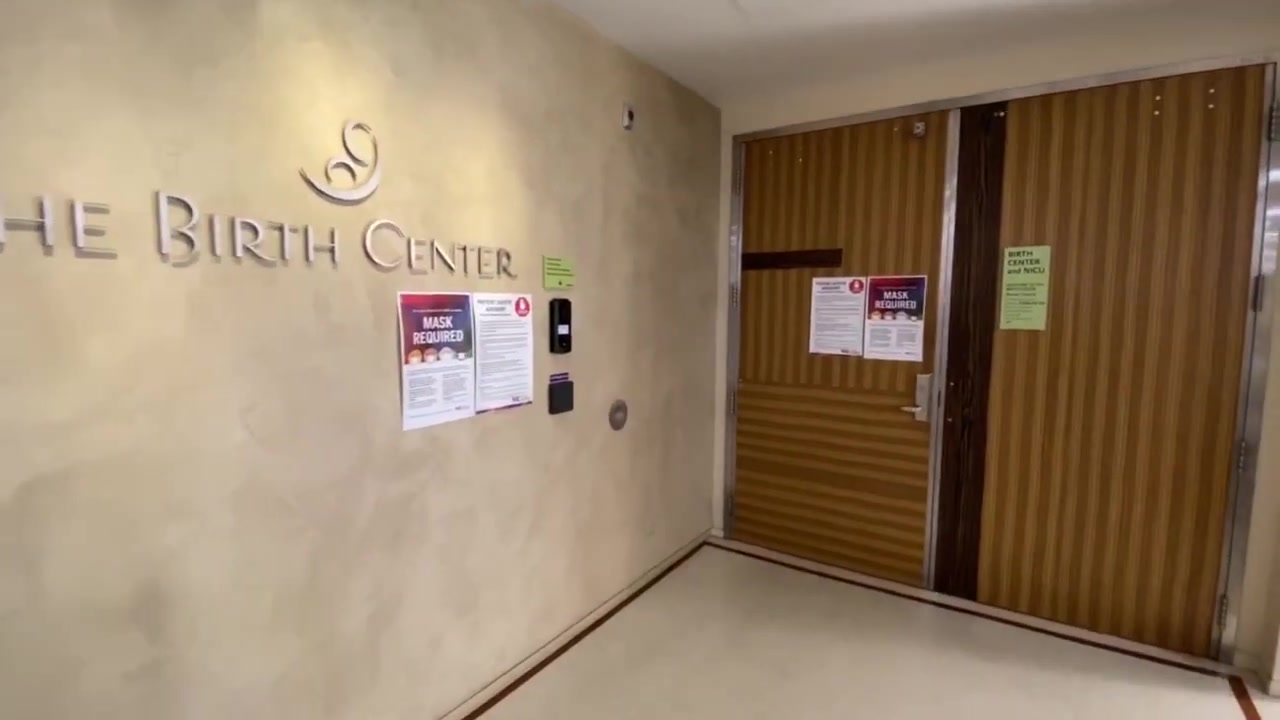door_handle: (898, 371, 932, 415)
